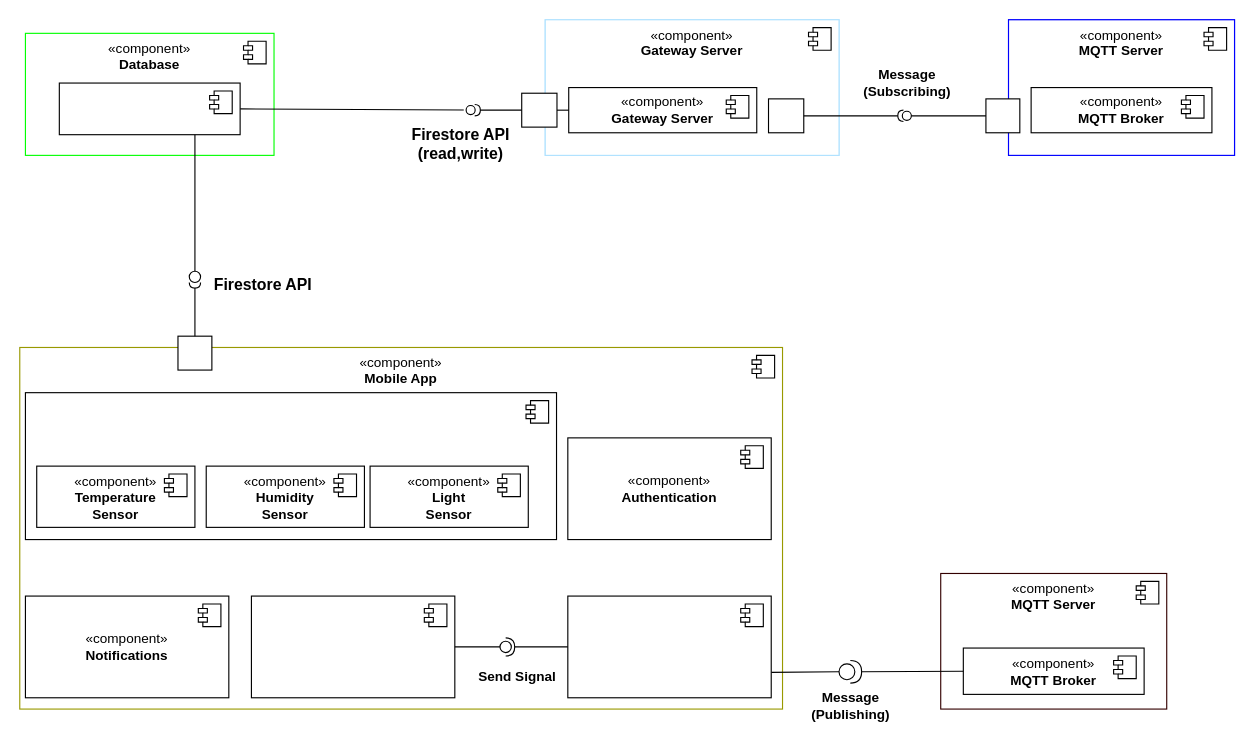
Some shapes in this 1254 by 748 pixel diagram are drawn without their labels. The box of each missing label's shape, as (x1, y1, x2, y2) in pixels:
«component» Device Controller: (250, 595, 455, 698)
«component» Firebase Firestore: (58, 82, 240, 135)
«component» MQTT Client: (567, 595, 771, 698)
«component» Sensor Data: (24, 392, 557, 540)
